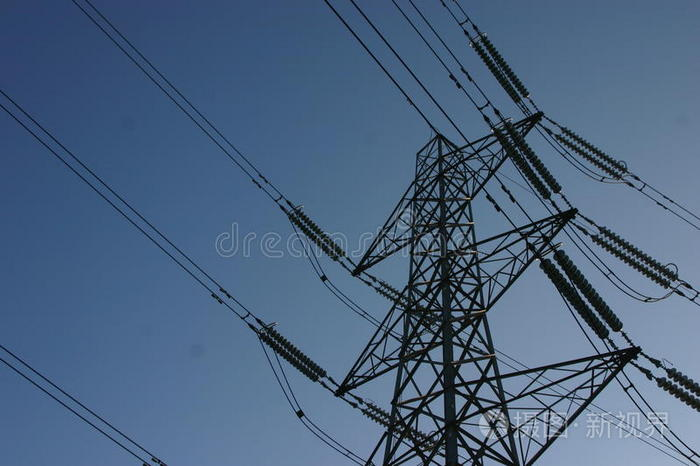insulator: (542, 249, 622, 342), (492, 121, 563, 199), (593, 224, 677, 288), (360, 400, 442, 452), (469, 35, 529, 102), (256, 326, 326, 381), (554, 126, 625, 178), (288, 208, 345, 261), (655, 369, 700, 413), (374, 280, 405, 307)
